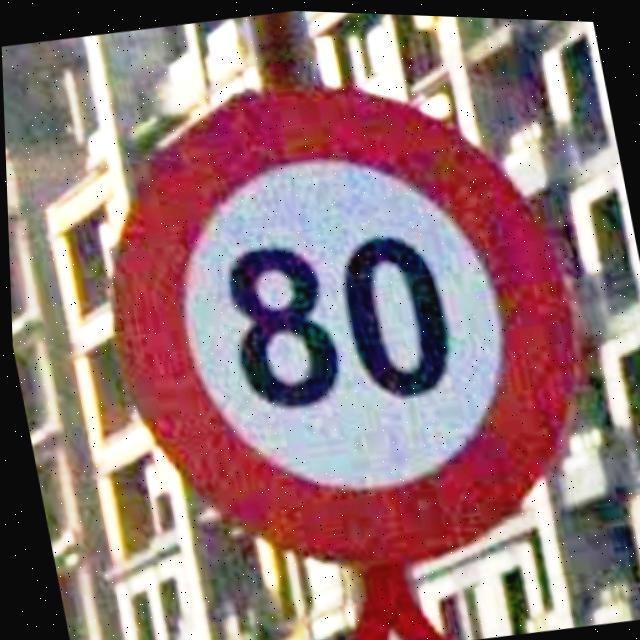max80: (59, 30, 624, 610)
